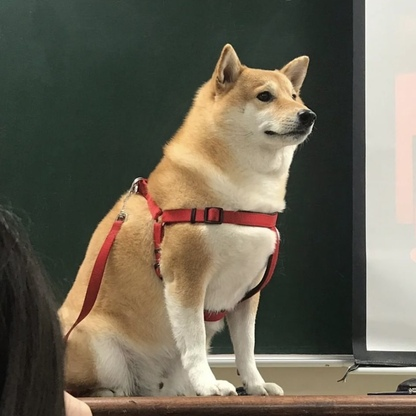akita: (43, 36, 322, 401)
